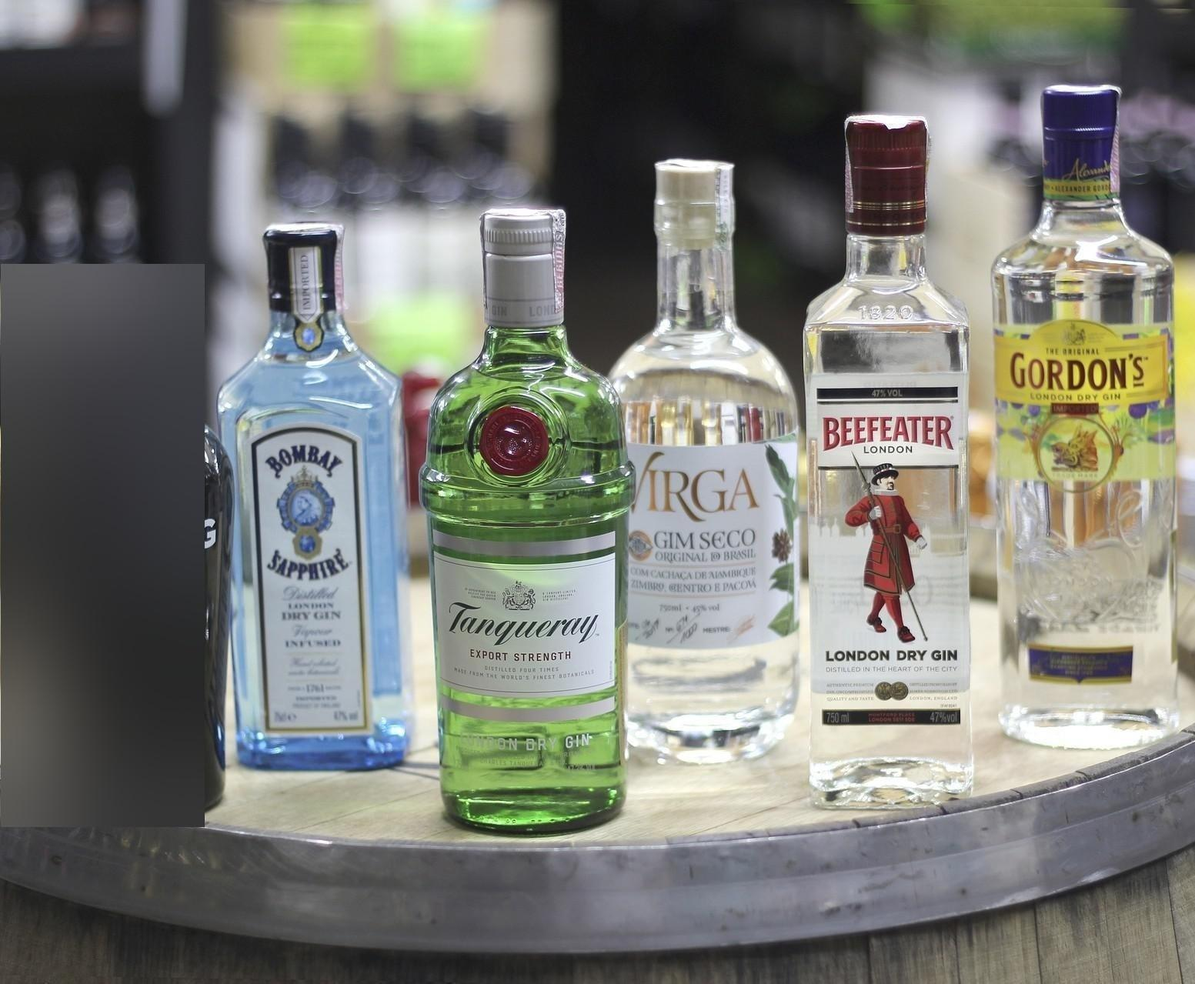bottle-glass: (981, 69, 1187, 766), (419, 196, 636, 849), (793, 101, 986, 826), (590, 152, 812, 776), (205, 209, 425, 779)
